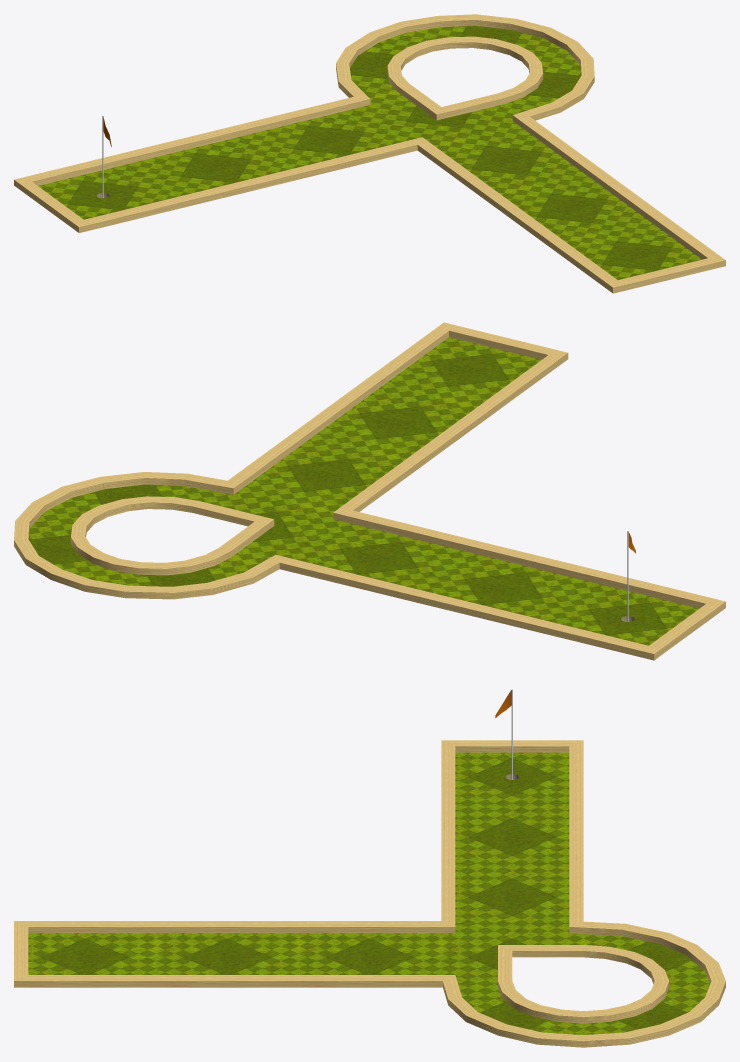
Rendered from course1_hole15.fbx.
3 renders of one model, top to bottom at view 1: azimuth 30°, elevation 25°; view 2: azimuth 150°, elevation 25°; view 3: azimuth 270°, elevation 25°, orthographic. The views are drawn at different scales.
Parts seen in each view (by area): view 1: course1_hole15_ground, course1_hole15_walls; view 2: course1_hole15_ground, course1_hole15_walls; view 3: course1_hole15_ground, course1_hole15_walls.
Part boxes in pixels (x1,y1,x2,y2): course1_hole15_ground: (38, 25, 701, 279); course1_hole15_walls: (14, 14, 725, 293); course1_hole15_ground: (28, 337, 699, 645); course1_hole15_walls: (14, 322, 725, 660); course1_hole15_ground: (28, 752, 710, 1034); course1_hole15_walls: (14, 740, 725, 1047).
Bounding box in the file's own units: 15 × 2.25 × 15.
